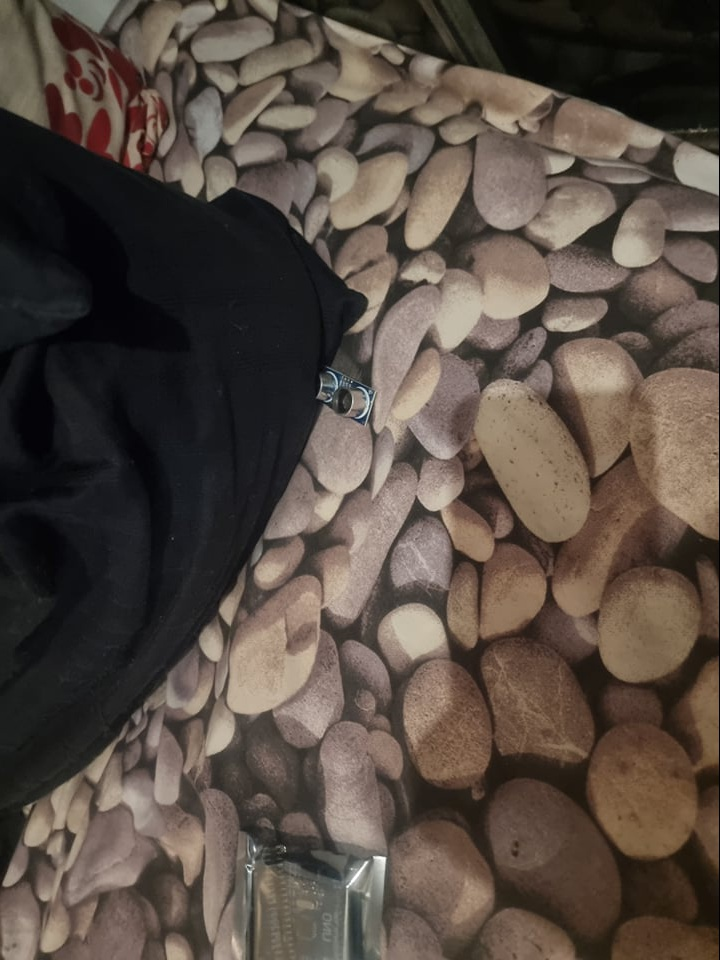SENSOR: (312, 356, 377, 436)
